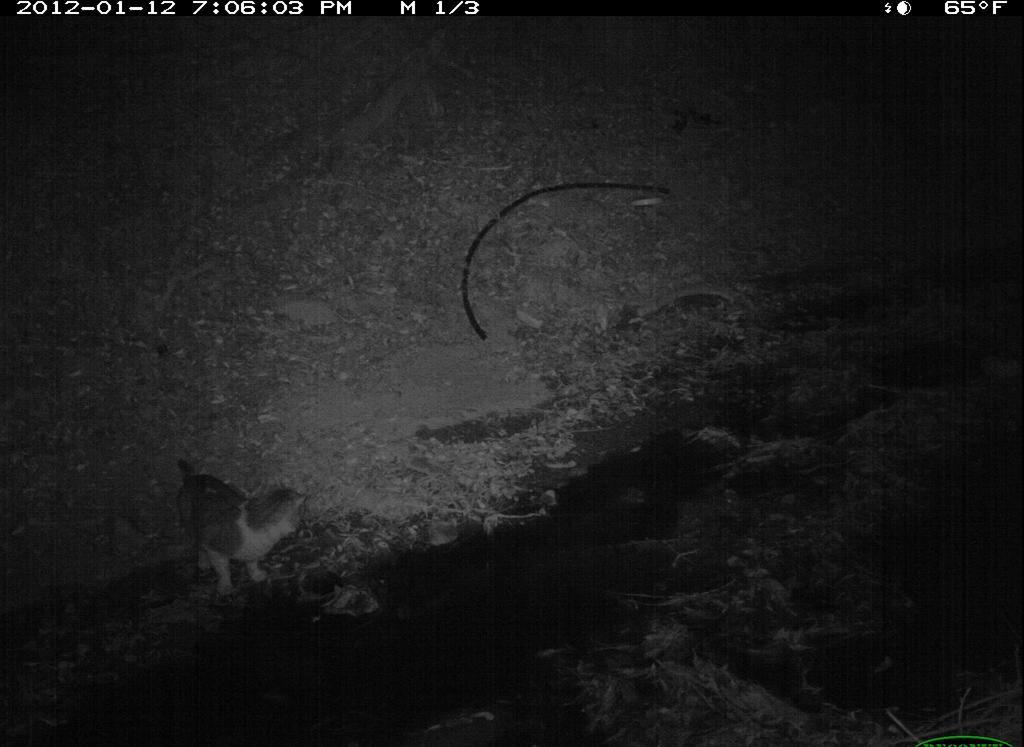cat: (171, 455, 317, 601)
